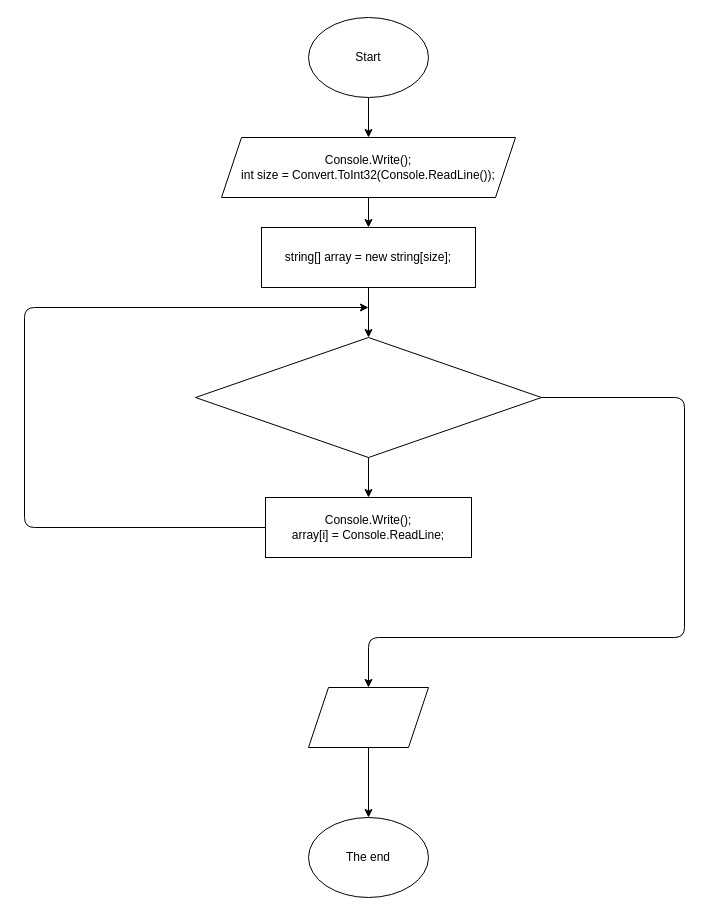
Image size: 710x915. Some labels were removed from this diagram. Each missing label, with the centre of its shape:
"i < size;" goes at point (368, 397).
"return array;" goes at point (368, 717).
